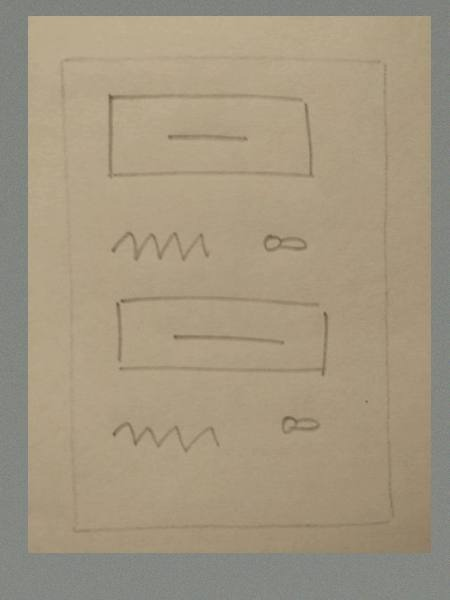button: (100, 86, 321, 188), (106, 290, 338, 383)
switch: (256, 227, 317, 265), (279, 407, 326, 442)
text: (102, 411, 227, 468), (103, 224, 214, 273)
